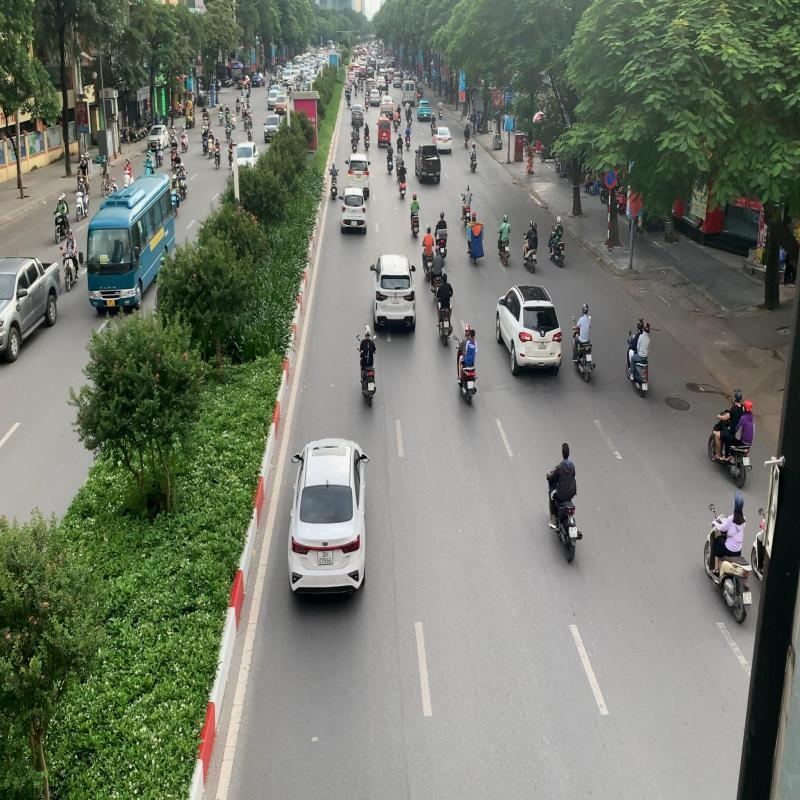helmet: (734, 489, 744, 512)
licenseplate: (742, 591, 752, 605), (569, 526, 578, 538)
motorcyclist: (703, 490, 752, 625), (546, 442, 583, 564)
nohelmet: (562, 442, 570, 460)
